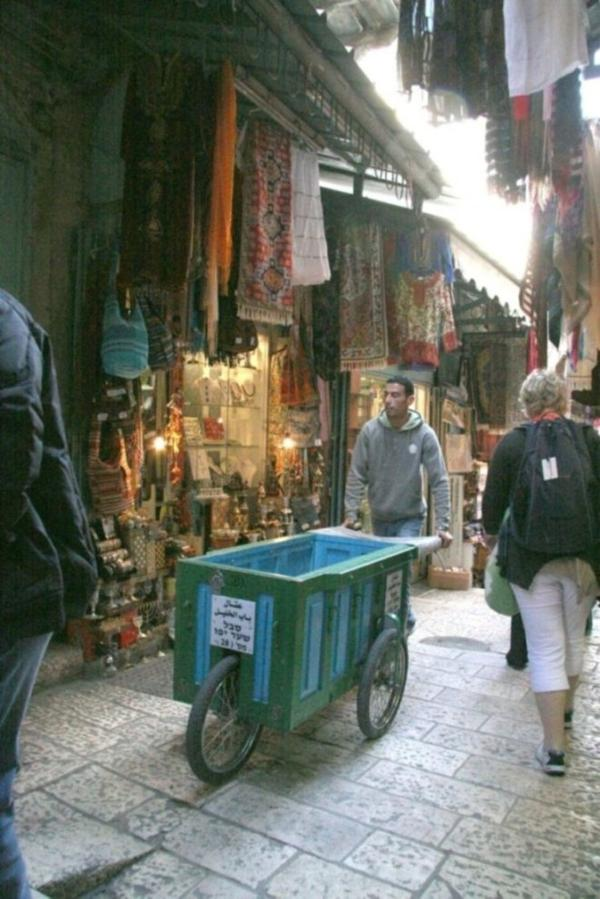person: (344, 369, 453, 643)
